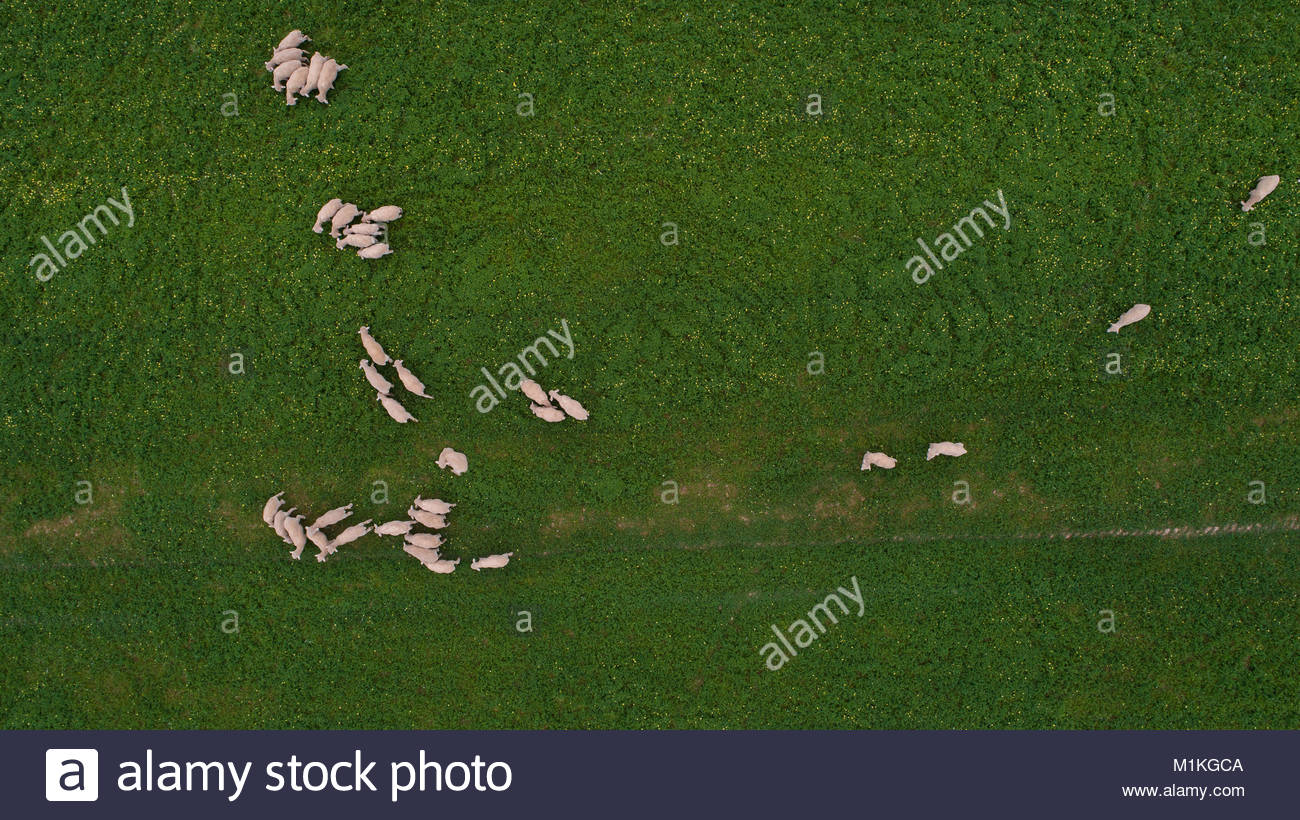sheep: (377, 391, 420, 435), (352, 324, 394, 367), (1239, 169, 1278, 213), (393, 359, 434, 399), (355, 357, 399, 394), (266, 27, 311, 63), (329, 522, 381, 553), (1107, 299, 1155, 331), (404, 504, 455, 534), (549, 390, 594, 423), (434, 449, 478, 481), (511, 375, 555, 406), (281, 511, 310, 558), (357, 203, 408, 229), (305, 505, 354, 531), (421, 555, 465, 582), (319, 57, 342, 108), (263, 46, 311, 70), (286, 61, 311, 107), (925, 439, 974, 462), (853, 450, 902, 473), (268, 57, 301, 91), (267, 507, 295, 547), (466, 552, 513, 575), (330, 199, 360, 235), (410, 495, 455, 518), (528, 402, 569, 427), (314, 198, 345, 231), (259, 490, 285, 528), (306, 522, 331, 561), (402, 539, 441, 563), (399, 527, 438, 550), (355, 242, 397, 262), (309, 50, 325, 98), (371, 520, 411, 538), (343, 221, 383, 238), (337, 234, 377, 249)
